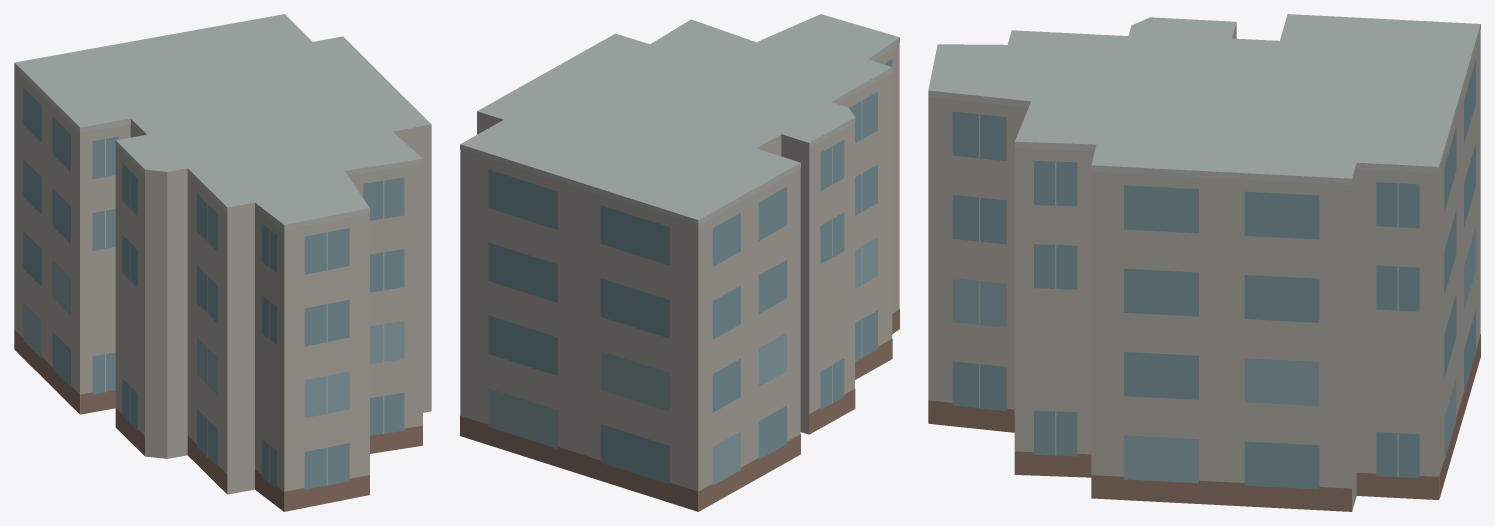
The model's file is survey-upis-32835886.glb.
The picture shows the model from 3 angles, left to right: view 1: azimuth 30°, elevation 25°; view 2: azimuth 150°, elevation 25°; view 3: azimuth 270°, elevation 25°; orthographic projection. The views are drawn at different scales.
Parts seen in each view (by area): view 1: survey-upis-32835886.tmp; view 2: survey-upis-32835886.tmp; view 3: survey-upis-32835886.tmp.
Boxes of the visible parts, <box> form: survey-upis-32835886.tmp: <box>14,14,431,511</box>; survey-upis-32835886.tmp: <box>460,14,899,511</box>; survey-upis-32835886.tmp: <box>928,14,1480,511</box>.
Size of the model in its own units: 13.63 by 12.85 by 19.32.
